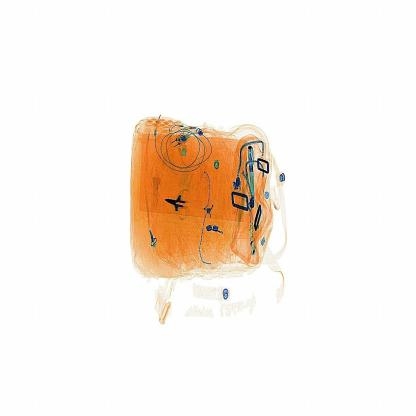gun: (153, 189, 199, 229)
